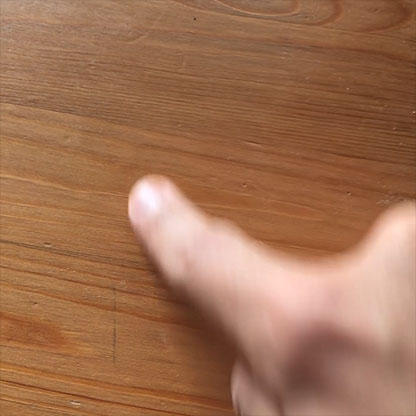fingertip: (117, 165, 184, 234)
